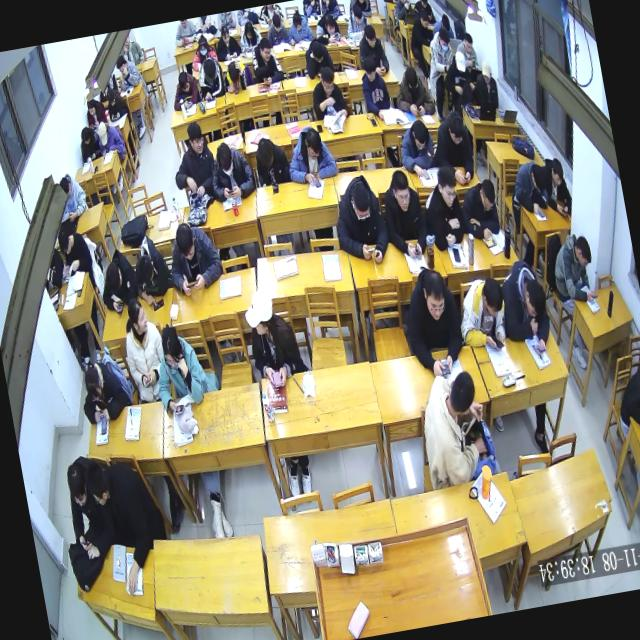bow: (493, 252, 557, 360), (74, 354, 132, 428), (125, 230, 177, 310), (92, 242, 144, 316), (393, 116, 438, 182), (507, 156, 552, 218), (300, 33, 336, 82), (167, 67, 202, 112), (186, 32, 218, 72), (219, 56, 250, 95), (312, 10, 343, 48)
down: (82, 458, 112, 512), (156, 322, 186, 372), (62, 462, 92, 512), (519, 275, 550, 322), (432, 164, 462, 212), (478, 274, 508, 322), (172, 220, 199, 264), (346, 182, 373, 225), (80, 364, 106, 408), (443, 107, 468, 149), (214, 140, 238, 182), (132, 250, 158, 288), (302, 126, 326, 164), (475, 177, 499, 215), (253, 134, 276, 172), (572, 232, 594, 271), (102, 260, 125, 297), (316, 62, 338, 98), (409, 118, 431, 154), (546, 154, 566, 190), (528, 162, 549, 196), (402, 64, 422, 98), (360, 53, 380, 87), (200, 56, 220, 86), (255, 34, 274, 64), (56, 226, 74, 256), (308, 38, 326, 66), (436, 26, 454, 54), (362, 22, 378, 52), (460, 29, 476, 58), (58, 174, 74, 202), (452, 48, 468, 76), (225, 58, 242, 84), (478, 59, 494, 86), (176, 68, 192, 94), (96, 120, 110, 148), (269, 10, 284, 36), (350, 3, 366, 27), (322, 10, 336, 36), (195, 32, 210, 56), (289, 8, 303, 32), (78, 126, 93, 148), (104, 86, 118, 108), (218, 22, 232, 44), (242, 18, 256, 40), (418, 9, 432, 31), (85, 97, 98, 118), (417, 0, 429, 10), (395, 0, 408, 5)
lookup: (417, 266, 452, 324), (388, 168, 415, 215), (184, 120, 206, 158)
sit: (82, 446, 169, 600), (394, 259, 470, 383), (238, 279, 306, 393), (327, 168, 393, 271), (115, 290, 173, 404), (59, 450, 116, 566), (146, 319, 212, 418), (160, 214, 227, 300), (376, 166, 432, 264), (452, 273, 513, 357), (415, 163, 471, 253), (164, 118, 220, 205), (428, 102, 480, 188), (546, 228, 601, 309), (280, 119, 340, 191), (204, 136, 258, 203), (456, 175, 504, 242), (305, 61, 351, 126), (355, 50, 395, 124), (390, 59, 438, 120), (437, 47, 479, 108), (54, 222, 96, 282), (538, 152, 575, 220), (610, 356, 640, 439), (250, 133, 293, 190), (189, 42, 228, 103), (246, 32, 286, 88), (354, 21, 391, 80), (422, 24, 458, 77), (56, 170, 90, 222), (472, 56, 502, 111), (281, 3, 316, 49), (404, 6, 435, 54), (93, 118, 127, 161), (210, 21, 242, 62), (113, 50, 143, 90), (76, 123, 104, 165), (342, 0, 371, 40), (236, 16, 266, 54), (82, 92, 109, 132), (263, 8, 290, 48), (103, 84, 130, 122), (410, 0, 435, 26), (391, 0, 415, 22)
